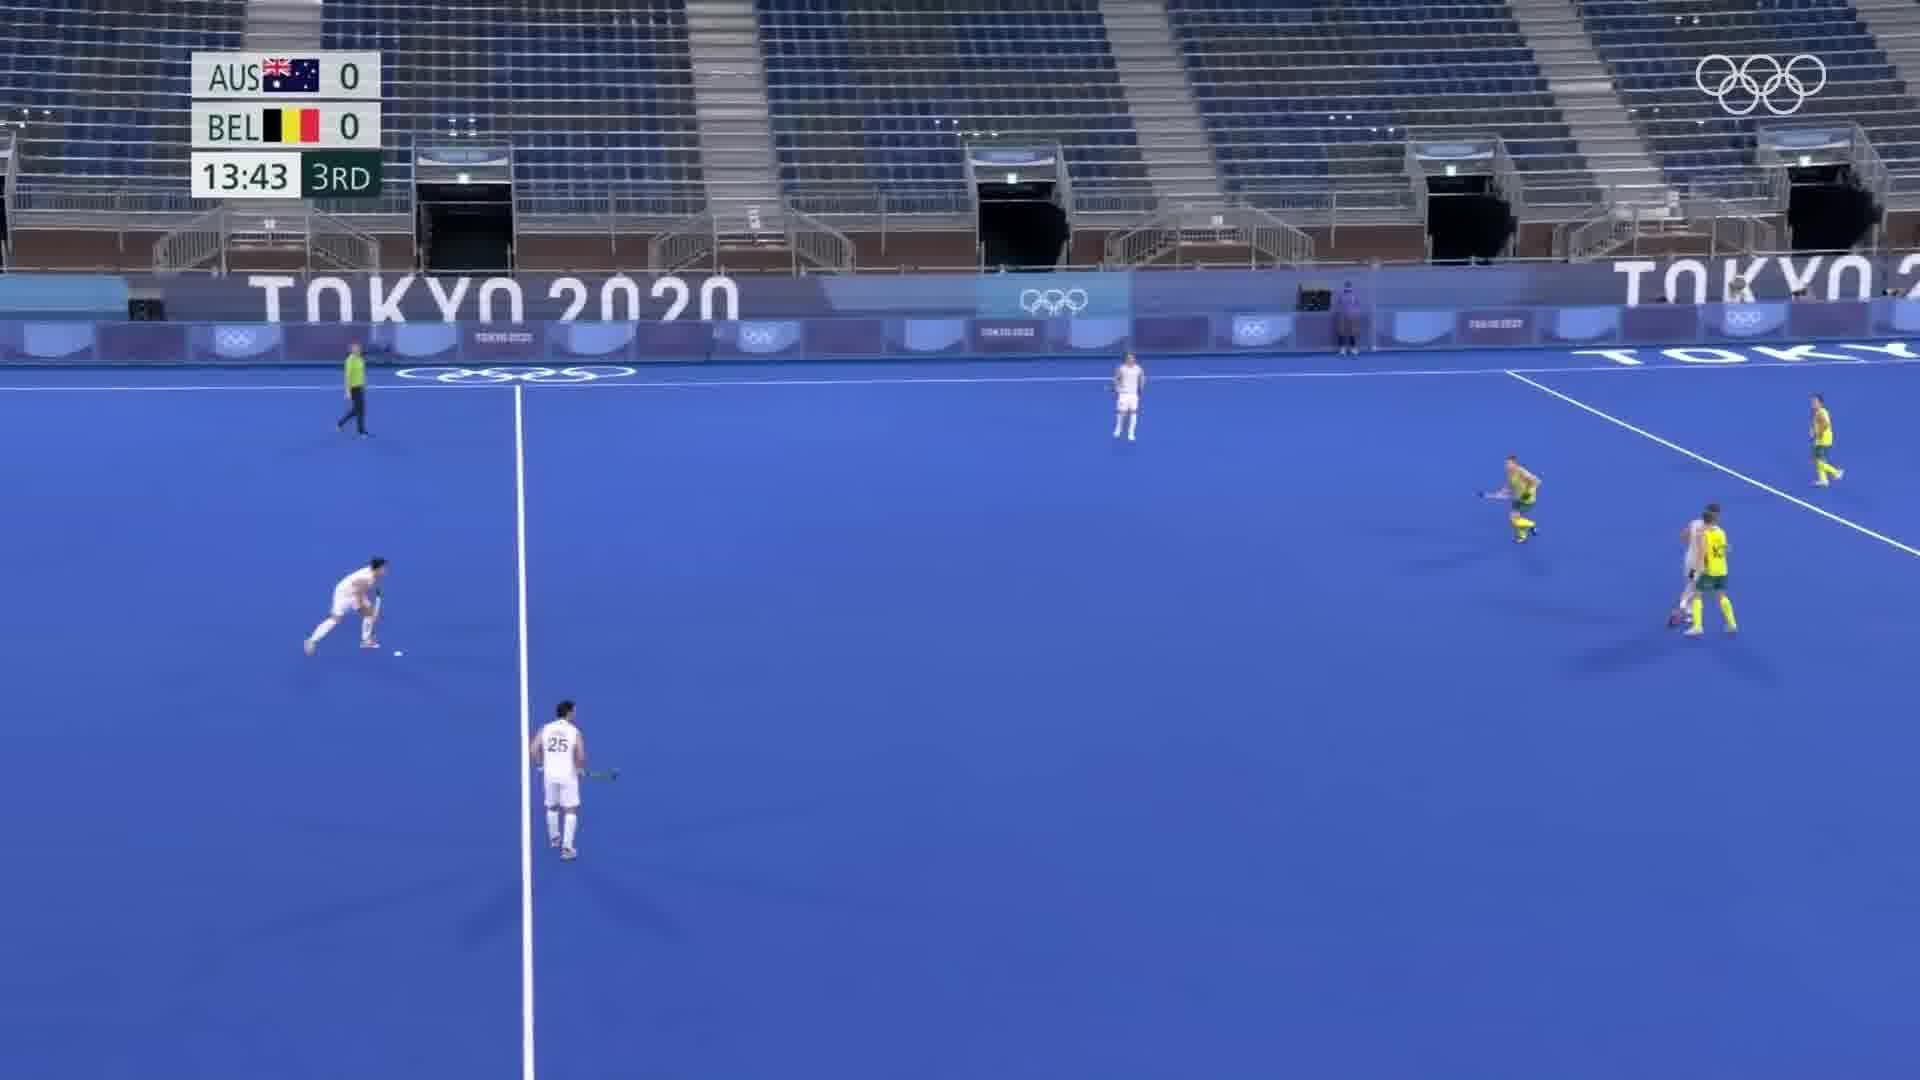ball: (384, 645, 409, 662)
